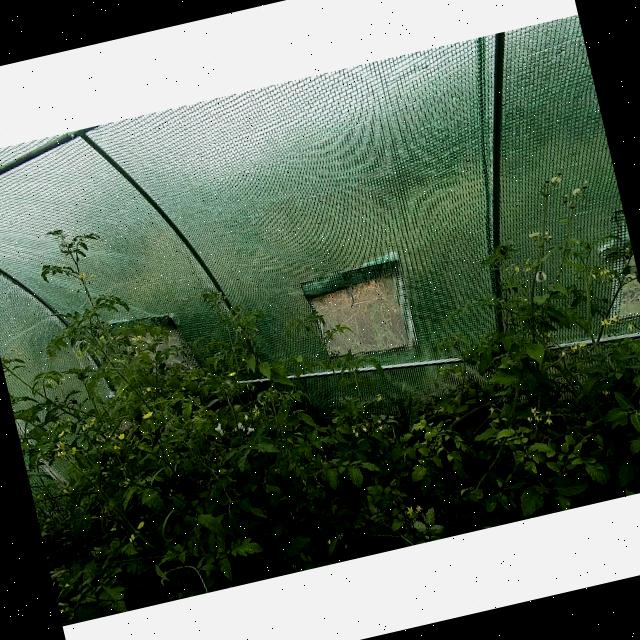Flowers: (78, 416, 98, 432), (600, 314, 622, 327), (542, 406, 556, 426), (530, 404, 543, 422), (52, 438, 68, 451), (54, 416, 72, 427), (570, 186, 584, 198), (550, 174, 564, 186), (250, 404, 262, 418), (528, 230, 542, 241), (125, 530, 136, 544), (350, 424, 360, 438), (129, 333, 144, 342), (598, 267, 611, 277), (55, 450, 68, 460), (559, 347, 570, 358), (626, 319, 636, 331), (488, 404, 500, 414), (142, 409, 154, 419), (68, 446, 80, 456), (134, 520, 146, 530), (405, 505, 415, 516), (414, 504, 424, 514), (56, 428, 66, 438), (358, 422, 368, 432), (512, 264, 521, 274), (241, 411, 250, 421), (226, 369, 238, 376), (570, 344, 578, 353), (118, 432, 126, 441), (578, 341, 588, 348), (524, 256, 532, 264), (144, 386, 152, 394), (377, 424, 385, 432), (526, 415, 534, 422), (524, 266, 532, 272), (376, 419, 383, 424)
